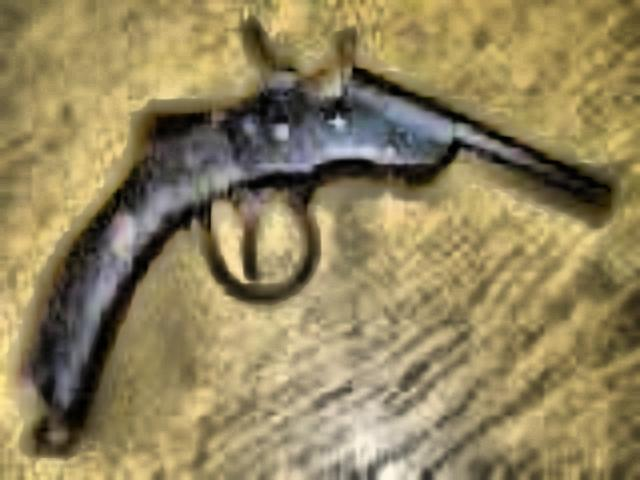pistol: (12, 16, 612, 420)
